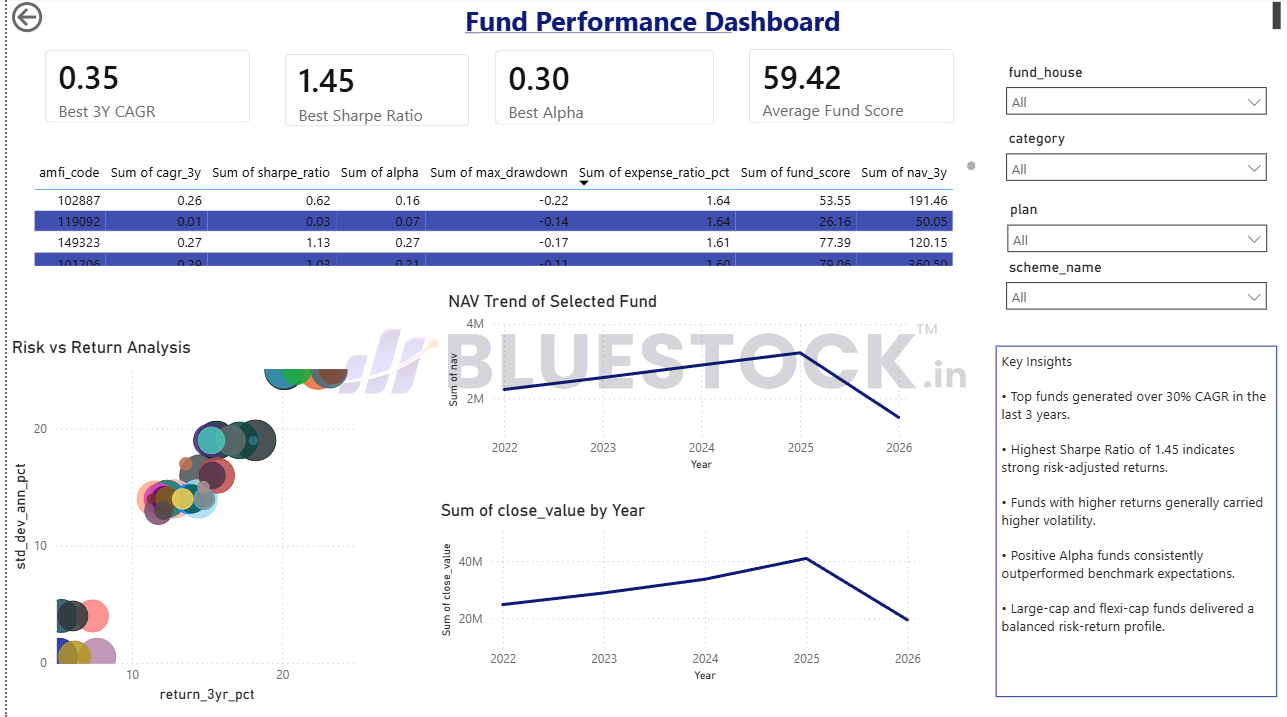

This screenshot's page, from the dashboard's own definition file:
{"tool":"powerbi","page":{"name":"Fund Performance","canvas":[1280,720],"ordinal":1},"visuals":[{"type":"slicer","fields":{"Values":["clean_fund_master.fund_house"]},"box":[984,61,279.9,65.9],"z":0},{"type":"slicer","fields":{"Values":["clean_fund_master.category"]},"box":[984,126.9,279.9,70.9],"z":1},{"type":"slicer","fields":{"Values":["clean_fund_master.plan"]},"box":[985.2,197.8,278.6,74.6],"z":2},{"type":"textbox","box":[21,536.5,280,160],"z":4},{"type":"textbox","box":[20.9,0,1251.2,40.7],"z":5},{"type":"cardVisual","fields":{"Data":["Max(fund_scorecard.cagr_3y)"]},"box":[21.1,36.1,238.8,107],"z":6},{"type":"cardVisual","fields":{"Data":["Max(fund_scorecard.sharpe_ratio)"]},"box":[260,39.8,217.7,107],"z":7},{"type":"cardVisual","fields":{"Data":["Max(fund_scorecard.alpha)"]},"box":[469,36.1,252.5,108.2],"z":8},{"type":"cardVisual","fields":{"Data":["Avg(fund_scorecard.fund_score)"]},"box":[721.5,34.8,238.8,108.2],"z":9},{"type":"scatterChart","title":"Risk vs Return Analysis","fields":{"X":["Sum(clean_performance.return_3yr_pct)"],"Y":["Sum(clean_performance.std_dev_ann_pct)"],"Size":["Sum(clean_performance.aum_crore)"],"Series":["clean_performance.scheme_name"]},"box":[0,338.4,360.7,368.2],"z":10},{"type":"tableEx","fields":{"Values":["fund_scorecard.amfi_code","Sum(fund_scorecard.cagr_3y)","Sum(fund_scorecard.sharpe_ratio)","Sum(fund_scorecard.alpha)","Sum(fund_scorecard.max_drawdown)","Sum(fund_scorecard.expense_ratio_pct)","Sum(fund_scorecard.fund_score)","Sum(fund_scorecard.nav_3y)"]},"box":[21.1,158,947.9,114.4],"z":11},{"type":"actionButton","box":[0,0,100,40],"z":12},{"type":"lineChart","title":"NAV Trend of Selected Fund","fields":{"Category":["clean_nav.date.Variation.Date Hierarchy.Year","clean_nav.date.Variation.Date Hierarchy.Quarter","clean_nav.date.Variation.Date Hierarchy.Month","clean_nav.date.Variation.Date Hierarchy.Day"],"Y":["Sum(clean_nav.nav)"]},"box":[434.1,292.3,471.5,184.1],"z":13},{"type":"slicer","fields":{"Values":["clean_performance.scheme_name"]},"box":[984,255,279.9,74.6],"z":14},{"type":"lineChart","fields":{"Category":["clean_benchmark_indices.date.Variation.Date Hierarchy.Year","clean_benchmark_indices.date.Variation.Date Hierarchy.Quarter","clean_benchmark_indices.date.Variation.Date Hierarchy.Month","clean_benchmark_indices.date.Variation.Date Hierarchy.Day"],"Y":["Sum(clean_benchmark_indices.close_value)"]},"box":[426.7,500.1,487.6,186.6],"z":15},{"type":"textbox","box":[984,347.1,279.9,349.6],"z":16},{"type":"image","box":[327.2,209,633.2,301],"z":17}]}

Visuals, with their boxes in screenshot pixels (x1, y1, x2, y2), scaled from the page's 1280x720 canvas onto the 1287x717 screenshot:
slicer - clean_fund_master.fund_house: box=[989, 61, 1271, 126]
slicer - clean_fund_master.category: box=[989, 126, 1271, 197]
slicer - clean_fund_master.plan: box=[991, 197, 1271, 271]
textbox: box=[21, 534, 303, 694]
textbox: box=[21, 0, 1279, 41]
cardVisual - Max(fund_scorecard.cagr_3y): box=[21, 36, 261, 143]
cardVisual - Max(fund_scorecard.sharpe_ratio): box=[261, 40, 480, 146]
cardVisual - Max(fund_scorecard.alpha): box=[472, 36, 725, 144]
cardVisual - Avg(fund_scorecard.fund_score): box=[725, 35, 966, 142]
"Risk vs Return Analysis" scatterChart: box=[0, 337, 363, 704]
tableEx - fund_scorecard.amfi_code x Sum(fund_scorecard.cagr_3y): box=[21, 157, 974, 271]
actionButton: box=[0, 0, 101, 40]
"NAV Trend of Selected Fund" lineChart: box=[436, 291, 911, 474]
slicer - clean_performance.scheme_name: box=[989, 254, 1271, 328]
lineChart - clean_benchmark_indices.date.Variation.Date Hierarchy.Year x clean_benchmark_indices.date.Variation.Date Hierarchy.Quarter: box=[429, 498, 919, 684]
textbox: box=[989, 346, 1271, 694]
image: box=[329, 208, 966, 508]
